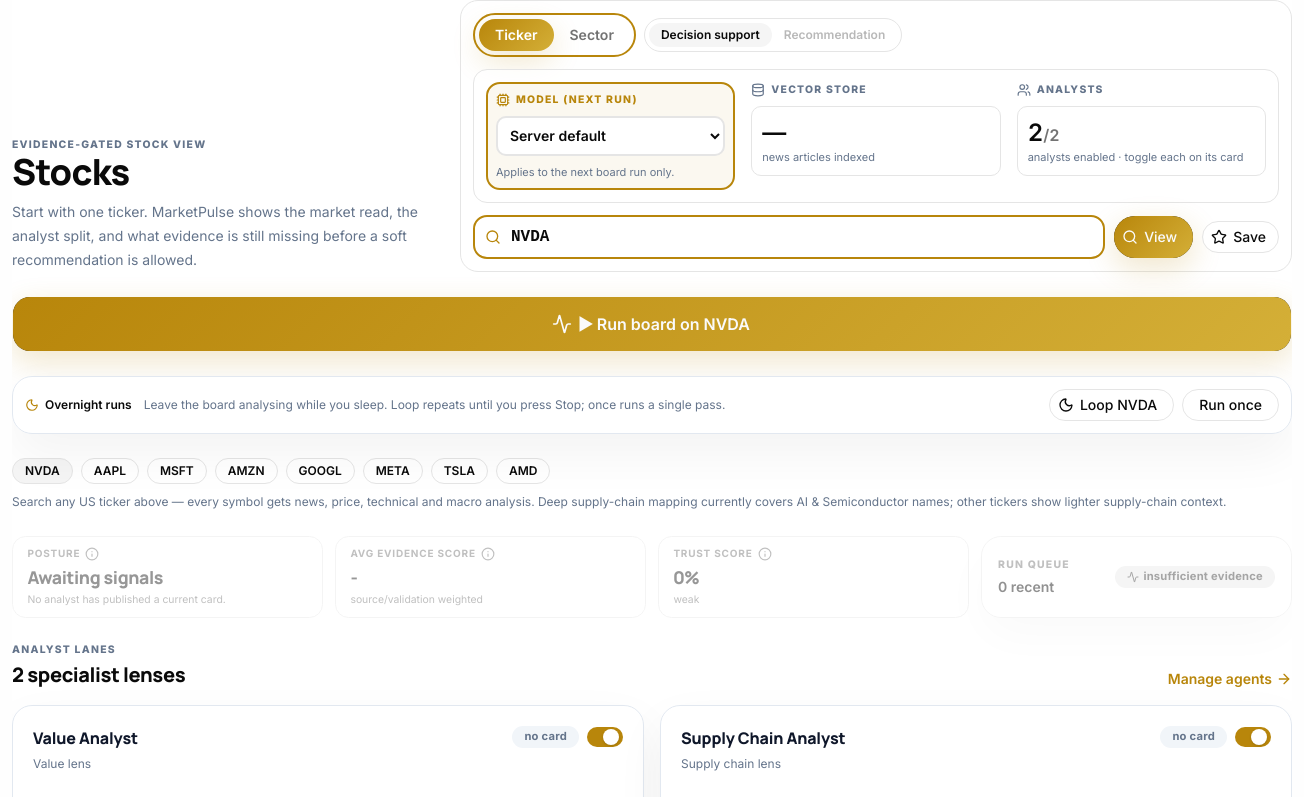
Test: TickerBoard › launches a board fanout for the current ticker
Click the button "▶ Run board on NVDA" at (652,324), box [12, 296, 1292, 352]
(page scrolled)
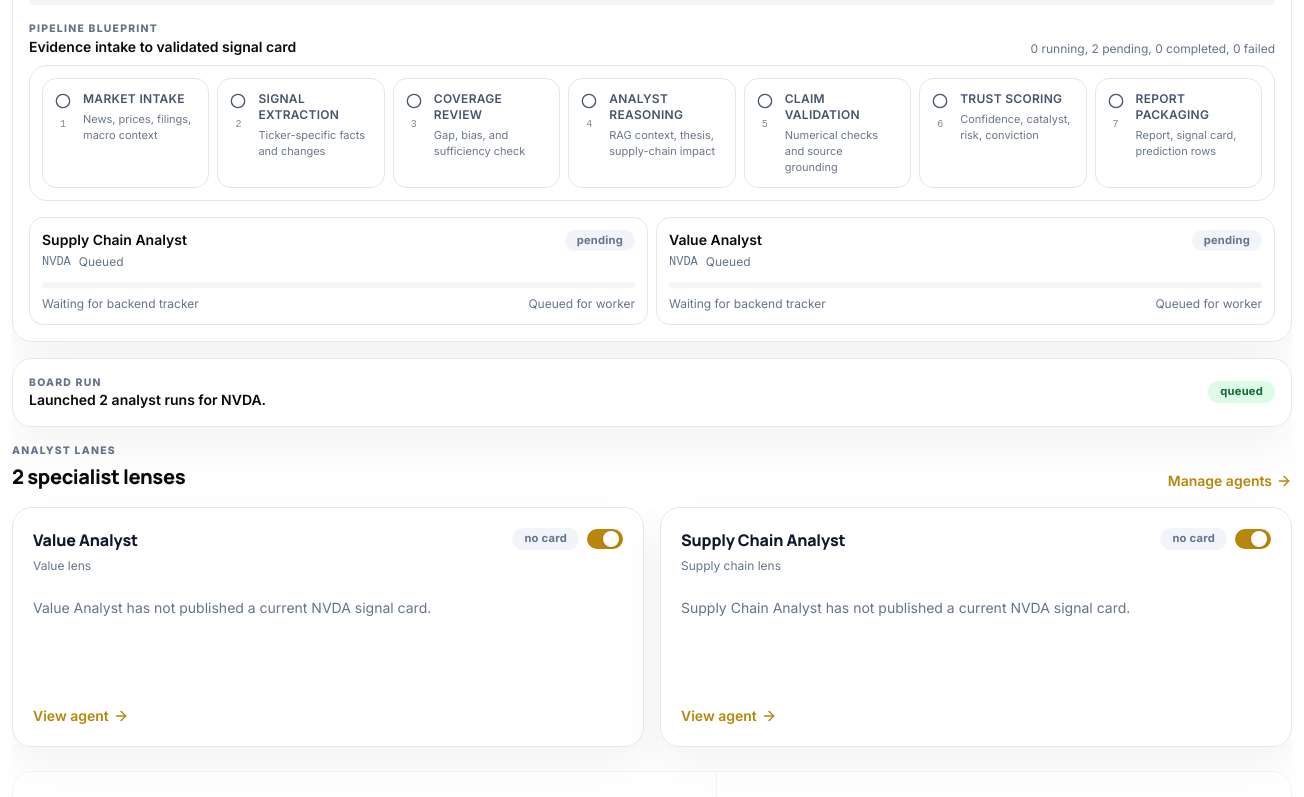
Expected: the text "Launched 2 analyst runs for NVDA." is shown, [29, 390, 266, 410]
